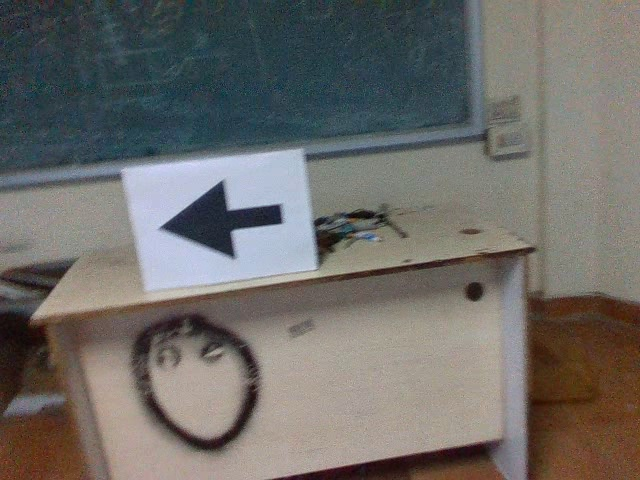Left: (151, 172, 290, 268)
